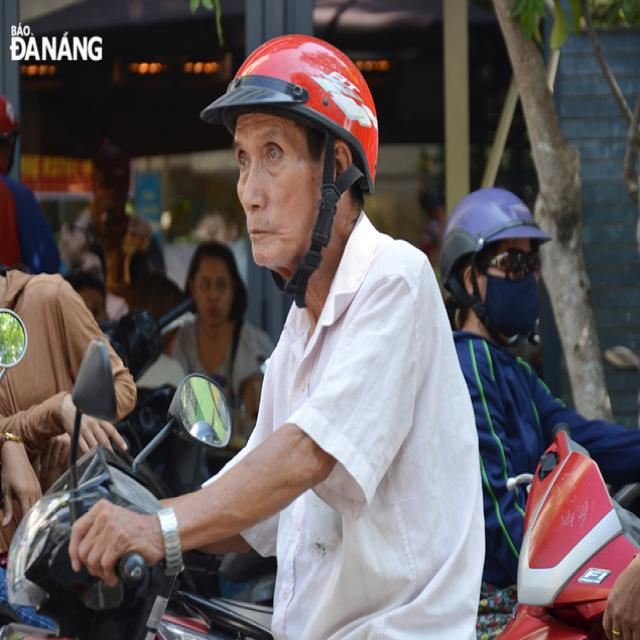helmet: (199, 32, 378, 194)
